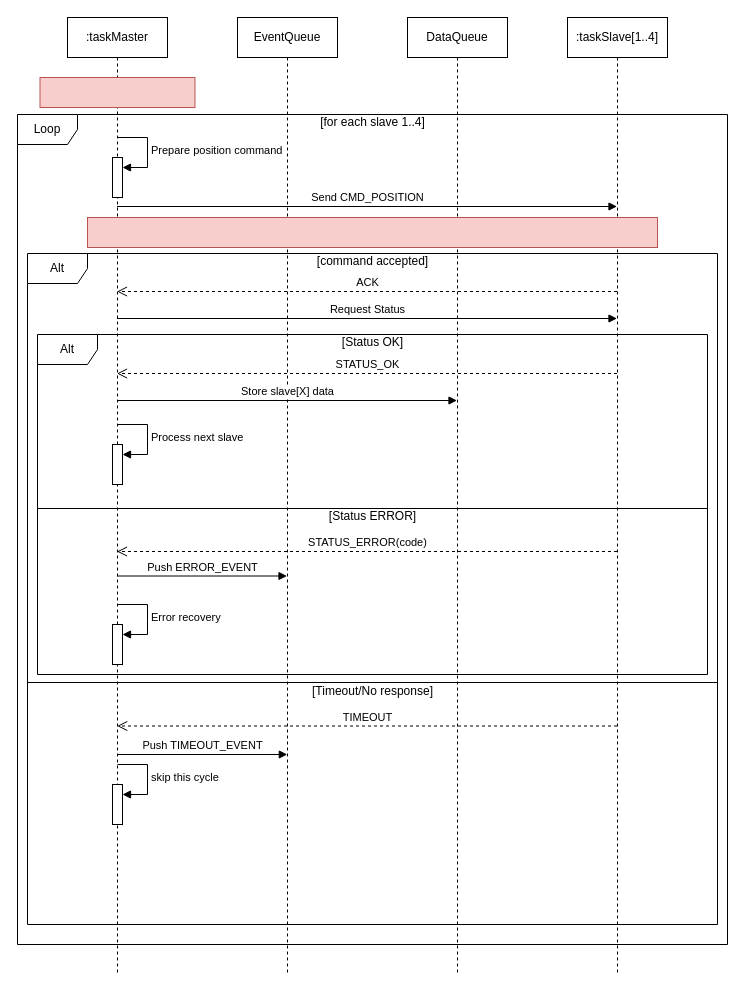
Some shapes in this 745 by 992 pixel diagram are drawn without their labels. The shapes that lost their labels are listed below. From the top down, each one's centre as x and y in pixels, then its label:
At pixel 117 92: "MASTER-SLAVE CYCLE".
At pixel 372 232: "Timeout = 50ms".
